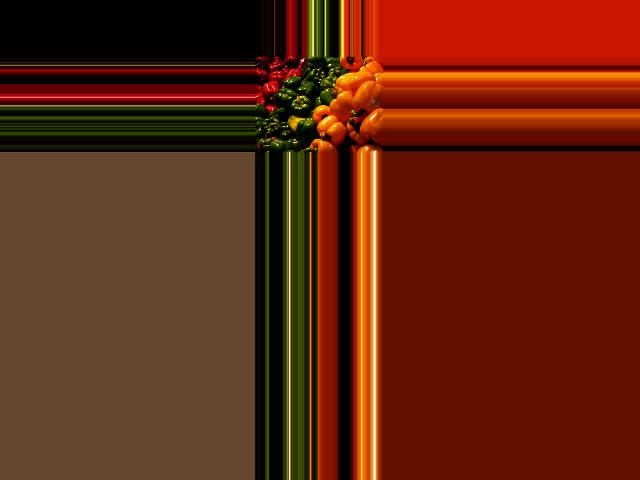bell_pepper: (255, 136, 278, 153)
